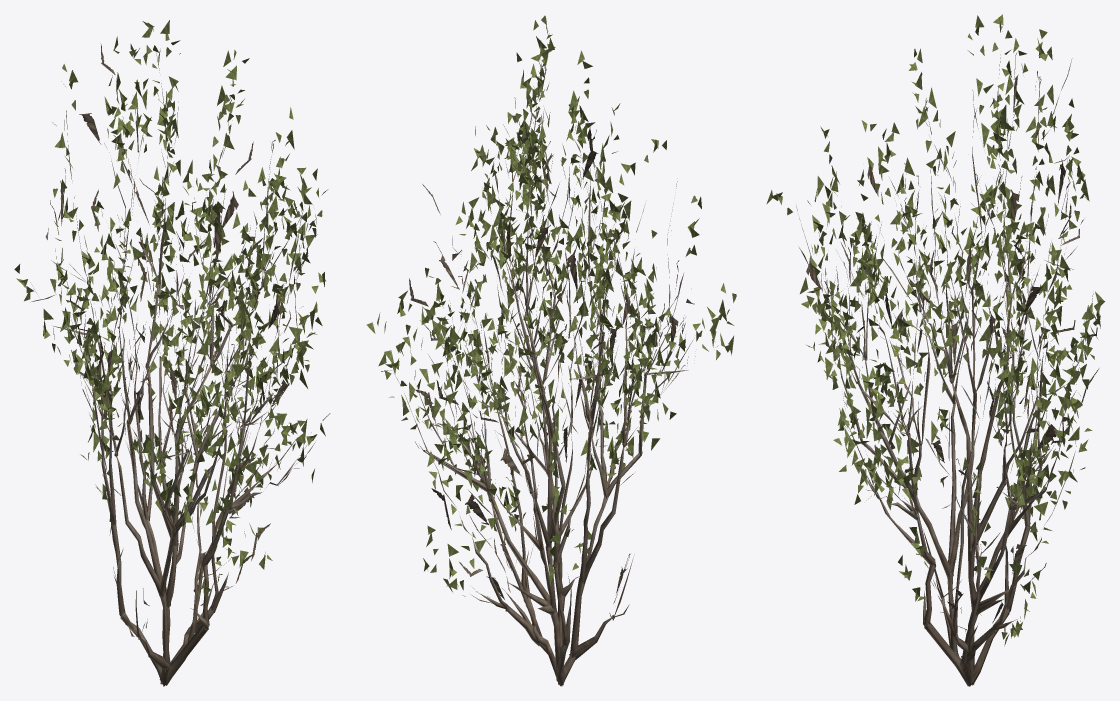
Rendered from tree_searsia_lucida_sapling.glb.
3 views of the same model, side by side, from view 1: azimuth 30°, elevation 25°; view 2: azimuth 150°, elevation 25°; view 3: azimuth 270°, elevation 25° (orthographic). The views are drawn at different scales.
Visible parts, largest first — view 1: tree_searsia_lucida_sapling; view 2: tree_searsia_lucida_sapling; view 3: tree_searsia_lucida_sapling.
Boxes of the visible parts, x1,y1,x2,y2 form: tree_searsia_lucida_sapling: [14, 20, 330, 686]; tree_searsia_lucida_sapling: [366, 15, 736, 686]; tree_searsia_lucida_sapling: [766, 14, 1105, 686].
Size of what is drawn, in the model's own units: 1.5 by 3.5 by 1.59.
3 materials, 3 textured.
